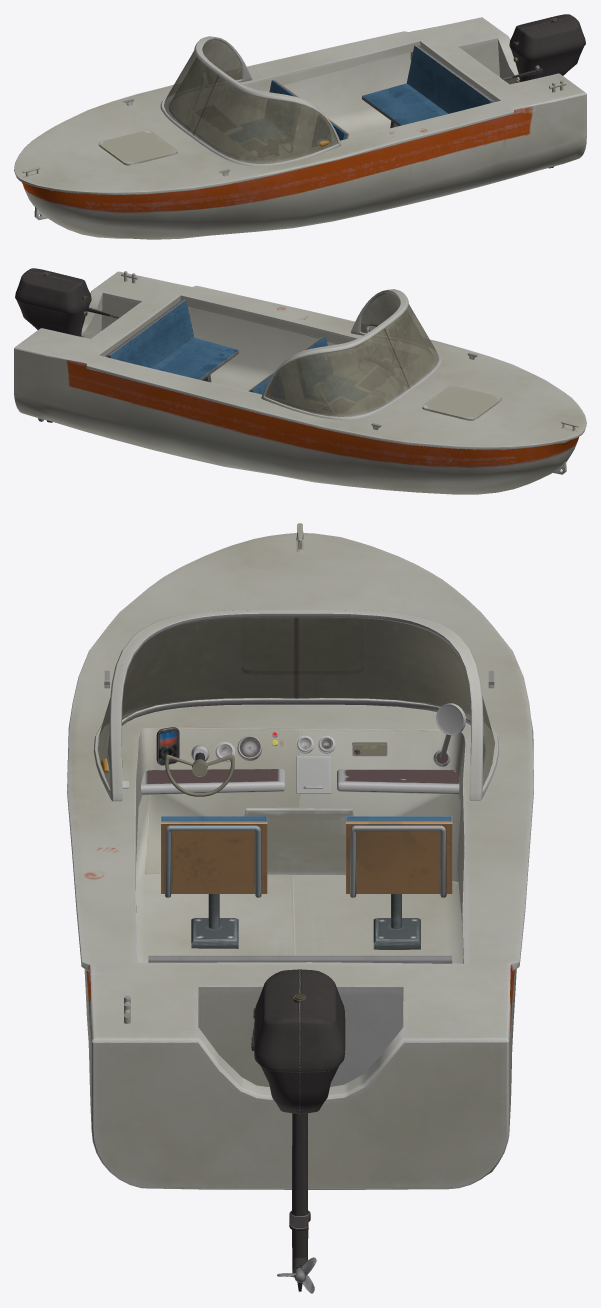
File: boat_aero.glb
The picture shows the model from 3 angles, top to bottom: view 1: azimuth 30°, elevation 25°; view 2: azimuth 150°, elevation 25°; view 3: azimuth 270°, elevation 25°; orthographic projection. The views are drawn at different scales.
Visible parts, largest first — view 1: Object_2, Object_7, Object_3, Object_5, Object_6; view 2: Object_2, Object_7, Object_3, Object_5, Object_6; view 3: Object_2, Object_7, Object_3, Object_5, Object_4, Object_6.
Part boxes in pixels (x1,y1,x2,y2): Object_2: (14, 17, 586, 239); Object_7: (164, 39, 337, 163); Object_3: (269, 45, 494, 140); Object_5: (502, 14, 585, 168); Object_6: (22, 80, 566, 219); Object_2: (14, 271, 586, 494); Object_7: (265, 292, 439, 416); Object_3: (106, 299, 327, 394); Object_5: (15, 268, 120, 422); Object_6: (121, 271, 578, 474); Object_2: (67, 533, 533, 1189); Object_7: (97, 617, 494, 786); Object_3: (148, 816, 452, 963); Object_5: (251, 969, 345, 1293); Object_4: (141, 703, 465, 796); Object_6: (101, 523, 494, 1023).
Size of the model in its own units: 432 by 131 by 156.
Materials: 6 (6 with a texture image).
